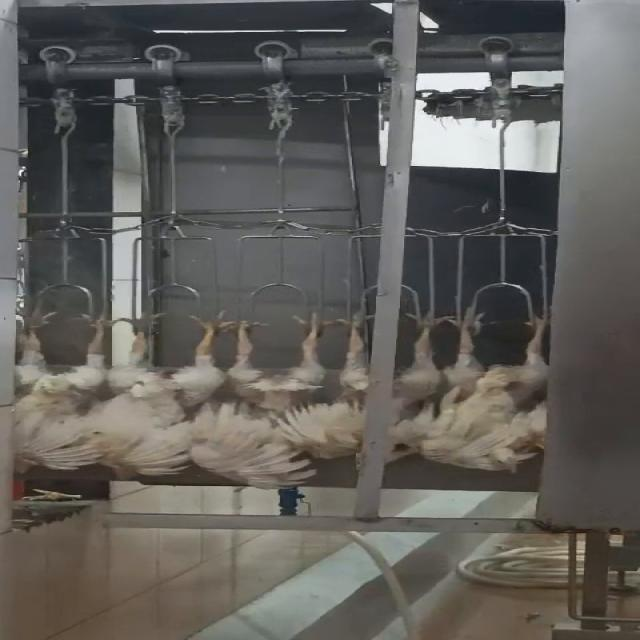chicken: (306, 304, 467, 470), (224, 303, 347, 492), (425, 310, 560, 477), (112, 309, 229, 485), (0, 313, 123, 474)
